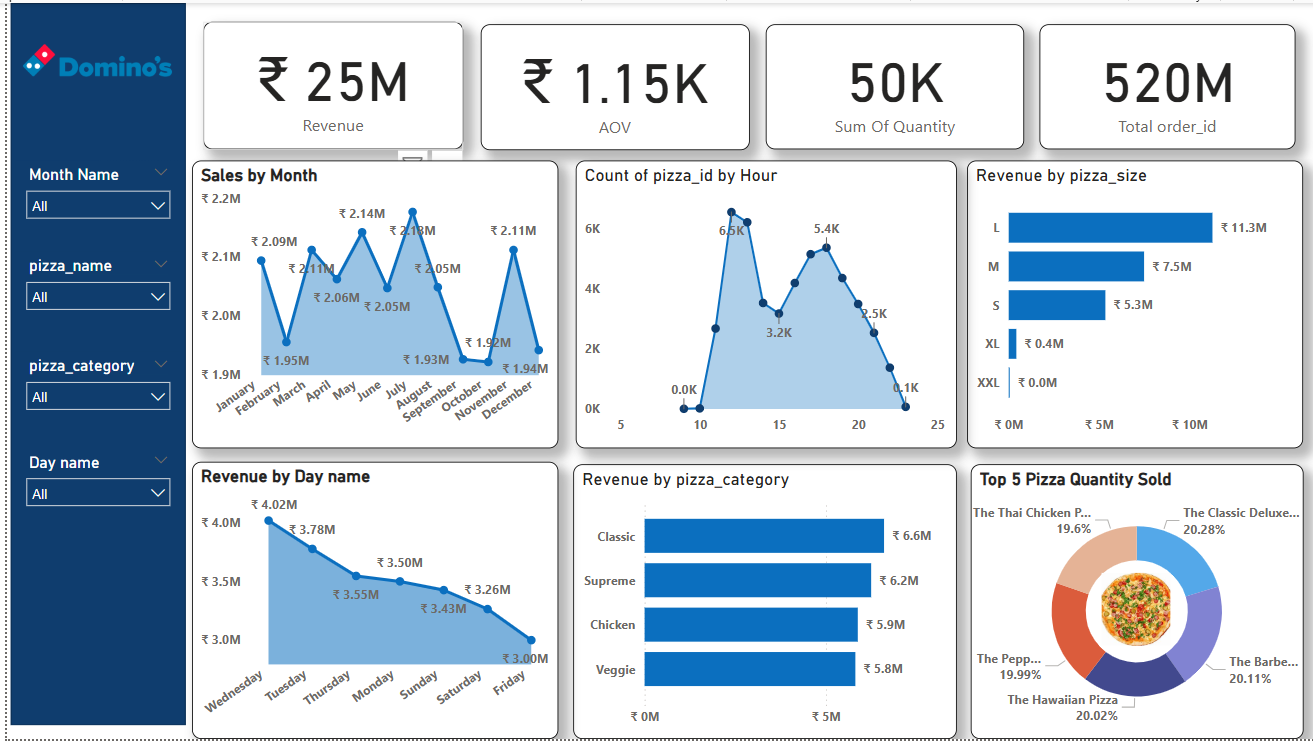

This screenshot's page, from the dashboard's own definition file:
{"tool":"powerbi","page":{"name":"Page 1","canvas":[1280,720],"ordinal":0},"visuals":[{"type":"card","fields":{"Values":["Measures (2).Revenue"]},"box":[192,18.3,254.3,124.7],"z":0},{"type":"card","fields":{"Values":["Measures (2).AOV"]},"box":[463.5,20.8,262.9,123.5],"z":1000},{"type":"card","fields":{"Values":["Measures (2).Sum Of Quantity"]},"box":[742.3,20.8,253.1,122.3],"z":2000},{"type":"card","fields":{"Values":["Measures (2).Total order_id"]},"box":[1010.1,20.8,250.7,122.3],"z":3000},{"type":"clusteredBarChart","fields":{"Y":["Measures (2).Revenue"],"Category":["Dataset.pizza_category"]},"box":[553.9,451.2,375.4,269],"z":4000},{"type":"clusteredBarChart","fields":{"Y":["Measures (2).Revenue"],"Category":["Dataset.pizza size"]},"box":[939.1,154.1,328.9,281.3],"z":5000},{"type":"areaChart","title":"Sales by Month","fields":{"Category":["Dataset.order_date.Variation.Date Hierarchy.Month"],"Y":["Sum(Dataset.total price)"]},"box":[181,154.1,358.3,281.3],"z":6000},{"type":"donutChart","title":"Top 5 Pizza Quantity Sold","fields":{"Y":["Sum(Dataset.quantity)"],"Category":["Dataset.pizza_name"]},"box":[942.8,451.2,325.3,269],"z":7000},{"type":"areaChart","title":"Count of pizza_id by Hour","fields":{"Y":["Count(Dataset.pizza_id)"],"Category":["Dataset.order_time"]},"box":[556.4,154.1,373,281.3],"z":8000},{"type":"shape","box":[3.7,0,171.2,706.8],"z":9000},{"type":"slicer","fields":{"Values":["Dataset.pizza_name"]},"box":[8.6,243.3,161.4,77],"z":10000},{"type":"slicer","fields":{"Values":["Dataset.pizza_category"]},"box":[8.6,341.2,161.4,77],"z":11000},{"type":"slicer","fields":{"Values":["Dataset.order_date.Variation.Date Hierarchy.Month"]},"box":[8.6,154.1,161.4,77],"z":12000},{"type":"image","box":[3.7,8.6,170,95.4],"z":13000},{"type":"image","box":[1051.6,552.7,106.4,80.7],"z":14000},{"type":"areaChart","fields":{"Category":["Dataset.Day name"],"Y":["Measures (2).Revenue"]},"box":[181,448.8,358.3,271.5],"z":15000},{"type":"slicer","fields":{"Values":["Dataset.Day name"]},"box":[8.6,435.3,161.4,77],"z":16000}]}

Visuals, with their boxes in screenshot pixels (x1, y1, x2, y2), scaled from the page's 1280x720 canvas onto the 1313x742 screenshot:
card - Measures (2).Revenue: bbox=(197, 19, 458, 147)
card - Measures (2).AOV: bbox=(475, 21, 745, 149)
card - Measures (2).Sum Of Quantity: bbox=(761, 21, 1021, 147)
card - Measures (2).Total order_id: bbox=(1036, 21, 1293, 147)
clusteredBarChart - Measures (2).Revenue x Dataset.pizza_category: bbox=(568, 465, 953, 741)
clusteredBarChart - Measures (2).Revenue x Dataset.pizza size: bbox=(963, 159, 1301, 449)
"Sales by Month" areaChart: bbox=(186, 159, 553, 449)
"Top 5 Pizza Quantity Sold" donutChart: bbox=(967, 465, 1301, 741)
"Count of pizza_id by Hour" areaChart: bbox=(571, 159, 953, 449)
shape: bbox=(4, 0, 179, 728)
slicer - Dataset.pizza_name: bbox=(9, 251, 174, 330)
slicer - Dataset.pizza_category: bbox=(9, 352, 174, 431)
slicer - Dataset.order_date.Variation.Date Hierarchy.Month: bbox=(9, 159, 174, 238)
image: bbox=(4, 9, 178, 107)
image: bbox=(1079, 570, 1188, 653)
areaChart - Dataset.Day name x Measures (2).Revenue: bbox=(186, 463, 553, 741)
slicer - Dataset.Day name: bbox=(9, 449, 174, 528)
